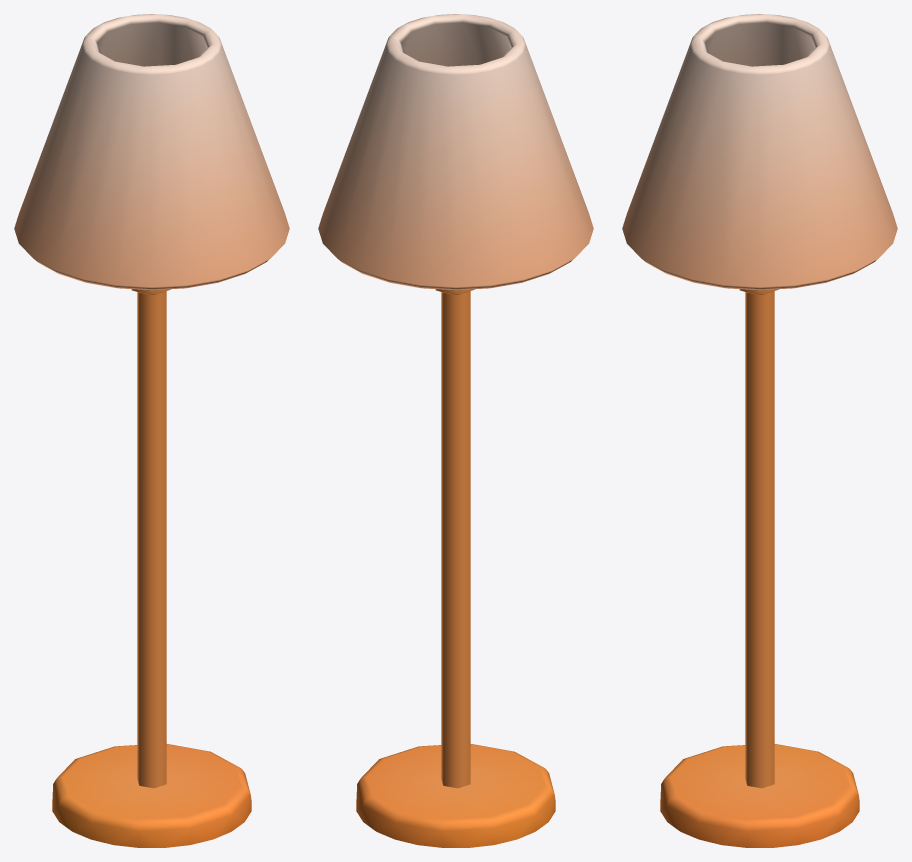
File: Light_001.glb
3 views of the same model, side by side, from view 1: azimuth 30°, elevation 25°; view 2: azimuth 150°, elevation 25°; view 3: azimuth 270°, elevation 25° (orthographic).
Visible parts, largest first — view 1: Light_001; view 2: Light_001; view 3: Light_001.
Part boxes in pixels (box(x1,y1,x2,y2)): Light_001: box(14, 14, 289, 847); Light_001: box(318, 14, 593, 847); Light_001: box(622, 14, 897, 847).
Size of the model in its own units: 0.4818 by 1.48 by 0.4818.
2 materials, 2 textured.
